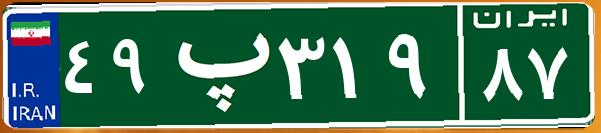1: (330, 28, 385, 110)
3: (273, 28, 330, 110)
4: (57, 26, 110, 107)
7: (525, 38, 570, 115)
8: (475, 38, 525, 113)
9: (385, 28, 445, 110), (110, 28, 158, 105)
پ: (158, 15, 273, 115)
